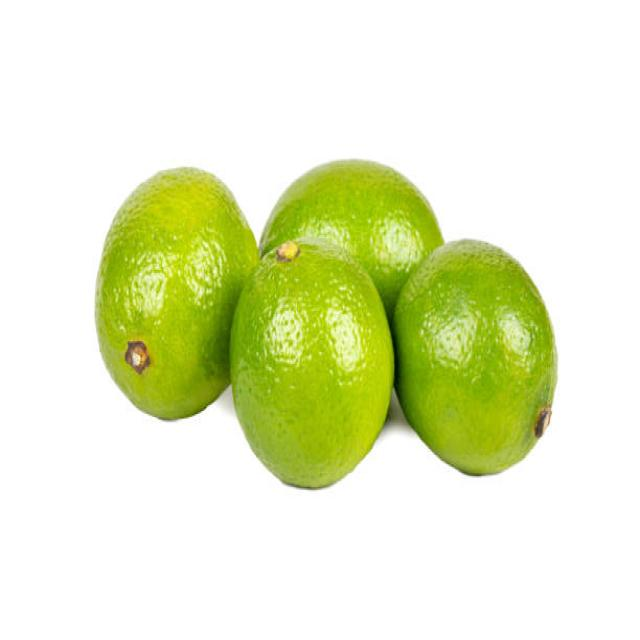Unripe: (92, 164, 262, 421), (228, 236, 396, 491), (394, 236, 559, 476)
